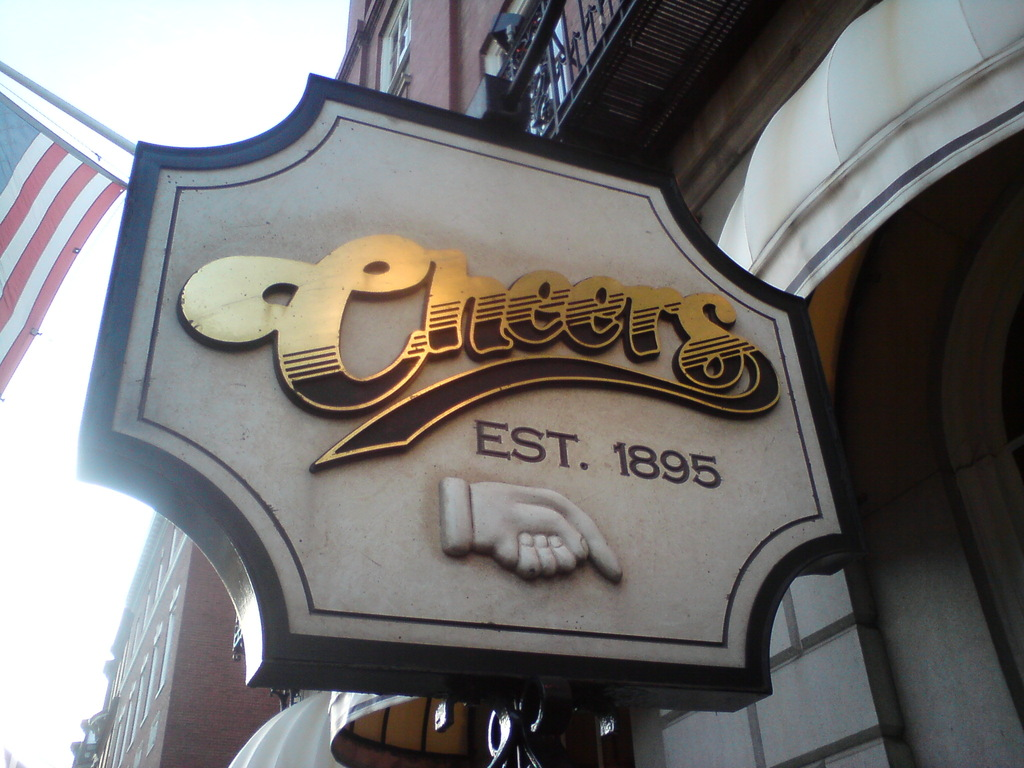Human_hand: (438, 496, 631, 616)
